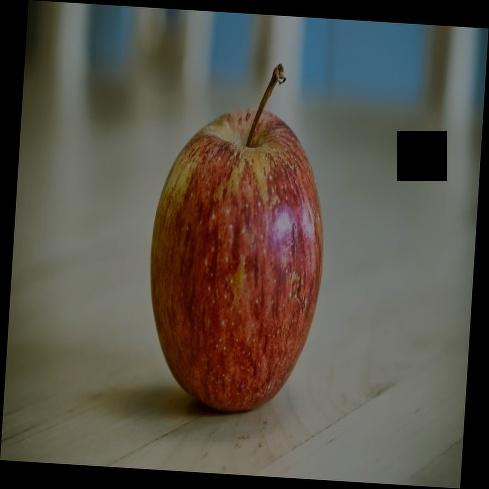red apple: (152, 104, 326, 412)
